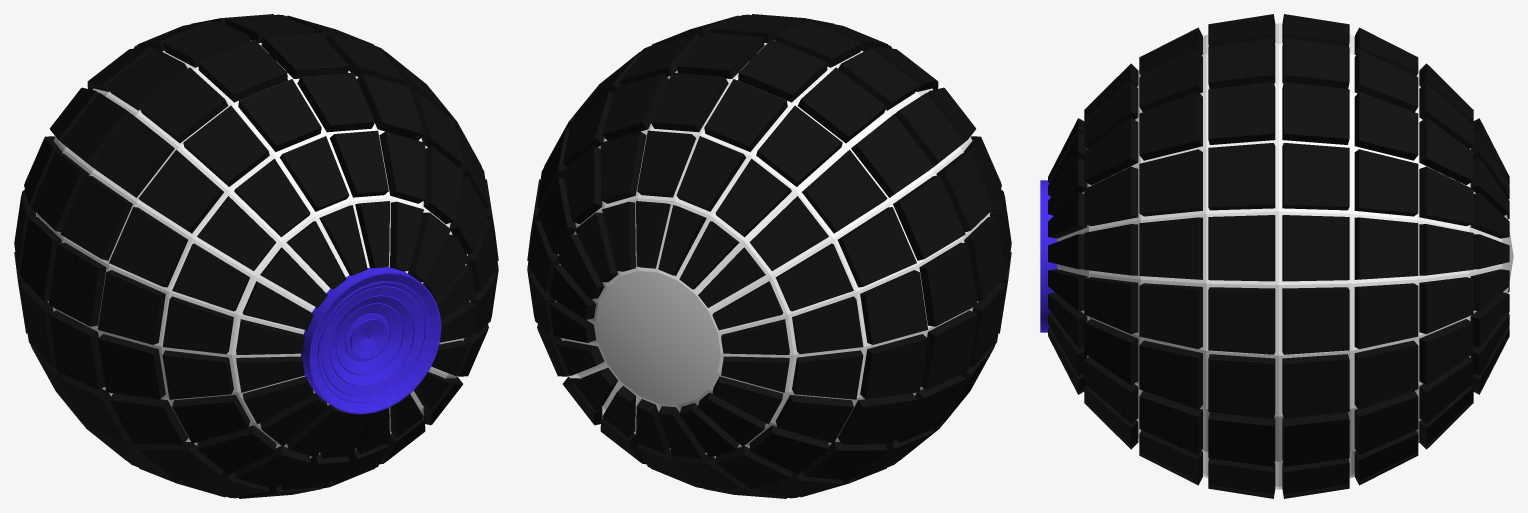
The model's file is Inimigo04_Mapa014_StarWars.FBX.
3 views of the same model, side by side, from view 1: azimuth 30°, elevation 25°; view 2: azimuth 150°, elevation 25°; view 3: azimuth 270°, elevation 25° (orthographic).
Visible parts, largest first — view 1: Sphere016, Cylinder019; view 2: Sphere016; view 3: Sphere016, Cylinder019.
Boxes of the visible parts, x1,y1,x2,y2 form: Sphere016: [14, 14, 498, 498]; Cylinder019: [301, 267, 441, 414]; Sphere016: [527, 14, 1011, 498]; Sphere016: [1048, 14, 1513, 498]; Cylinder019: [1040, 180, 1057, 332].
Bounding box in the file's own units: 479 × 479 × 465.
